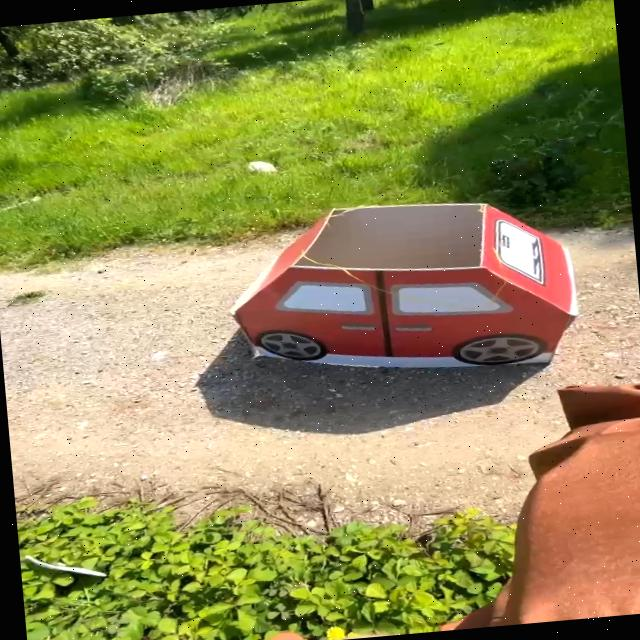red_car: (212, 176, 600, 423)
